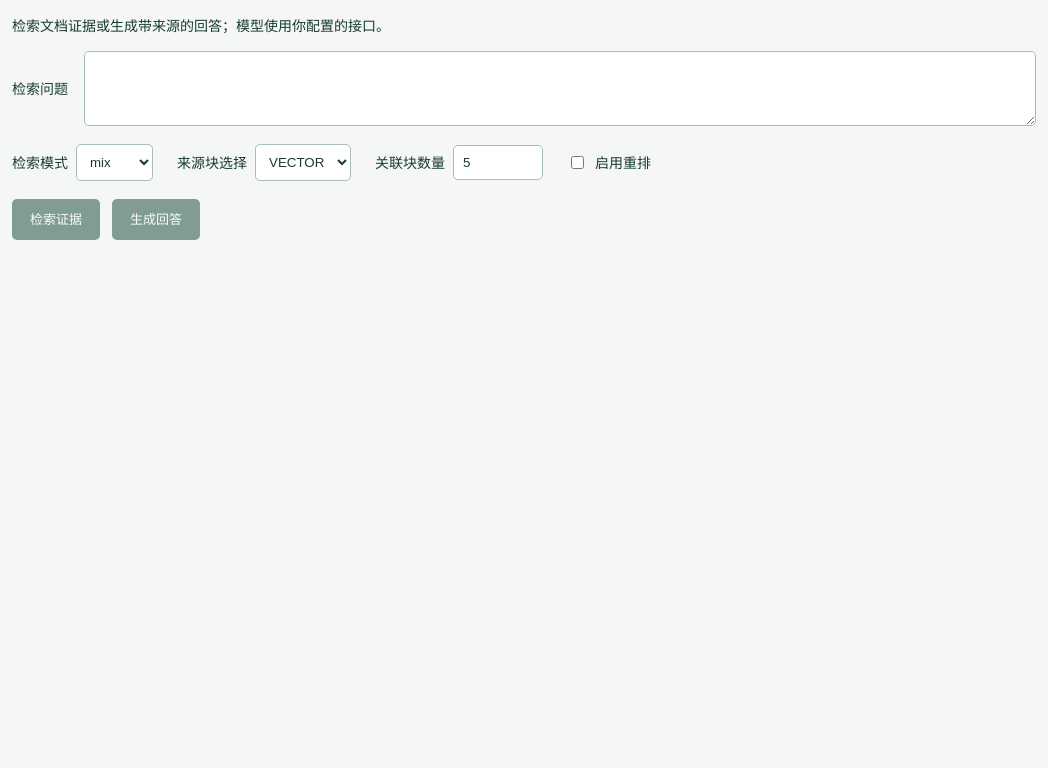
Scenario: streams Markdown, retains partial answers on errors and submits actual mode/rerank options
The image size is (1048, 768).
Type "协作" into the text box labelled "检索问题". click: (560, 88)
box: [84, 51, 1036, 126]
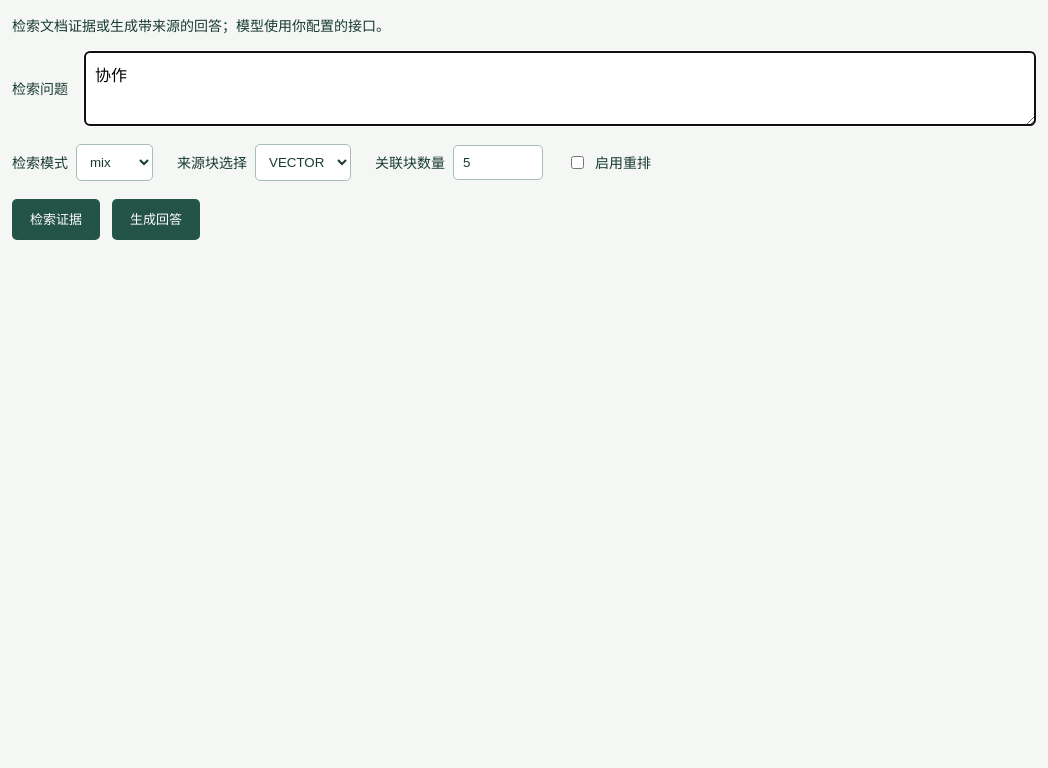
Select "global" in the dropdown labelled "检索模式". click: (114, 162)
box: [76, 144, 153, 181]
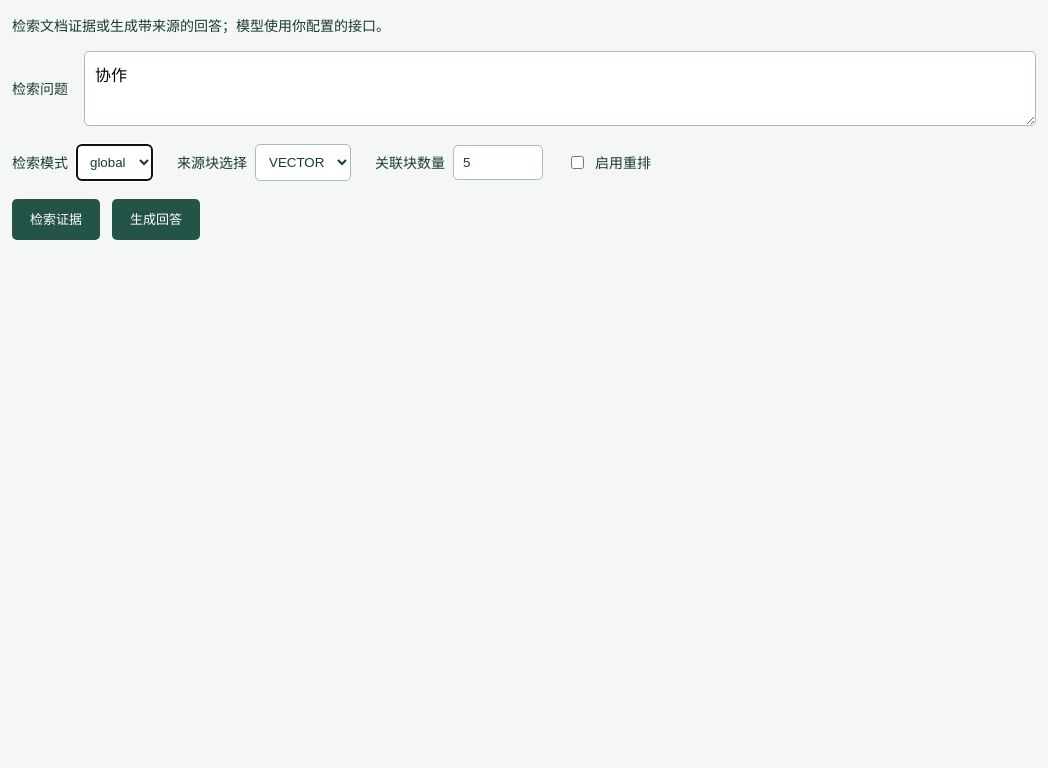
Click the checkbox labelled "启用重排". click: (578, 162)
box: [571, 156, 584, 169]
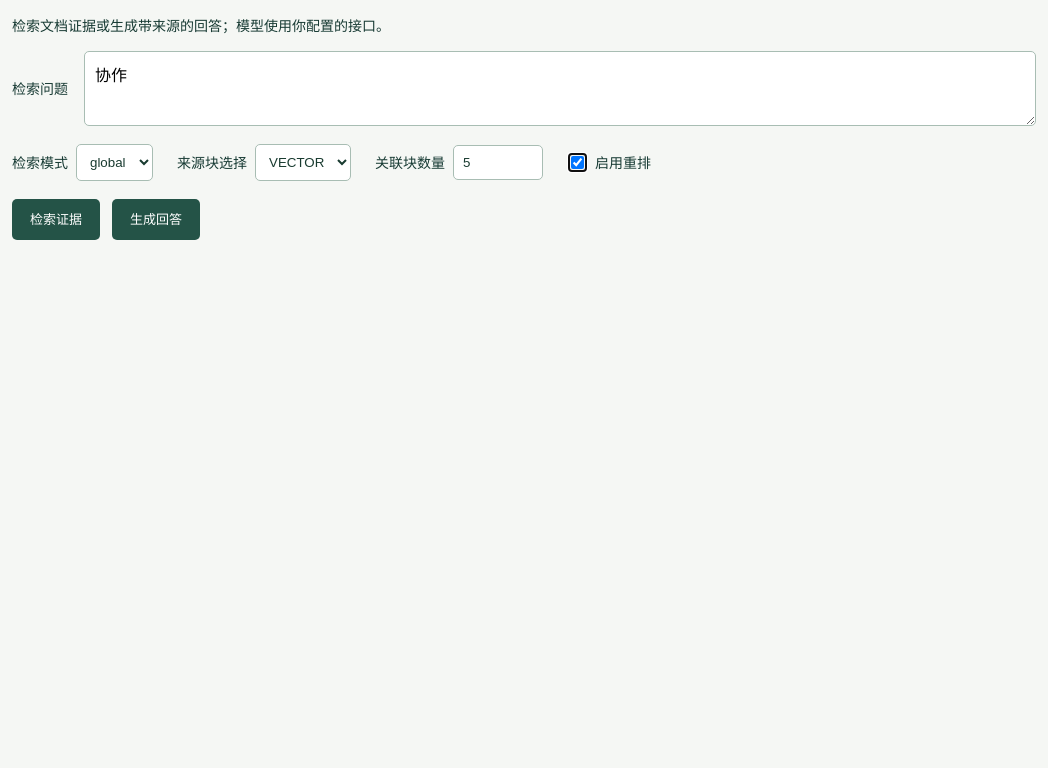
Click the button "生成回答". click: (156, 220)
box: [112, 199, 200, 240]
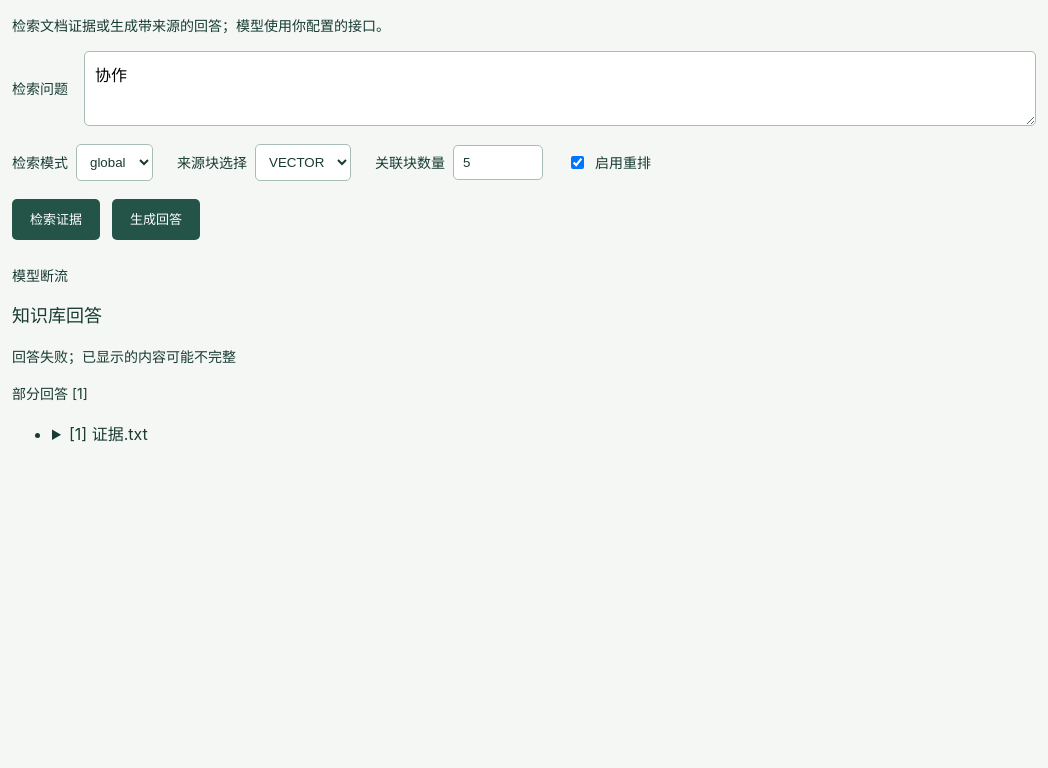
expect the text "回答失败；已显示的内容可能不完整" is shown: met, box [12, 348, 236, 365]
expect the message "模型断流" is shown: met, box [12, 267, 68, 284]
Click the heading "[1] 证据.txt". click: (108, 434)
box: [69, 424, 148, 444]
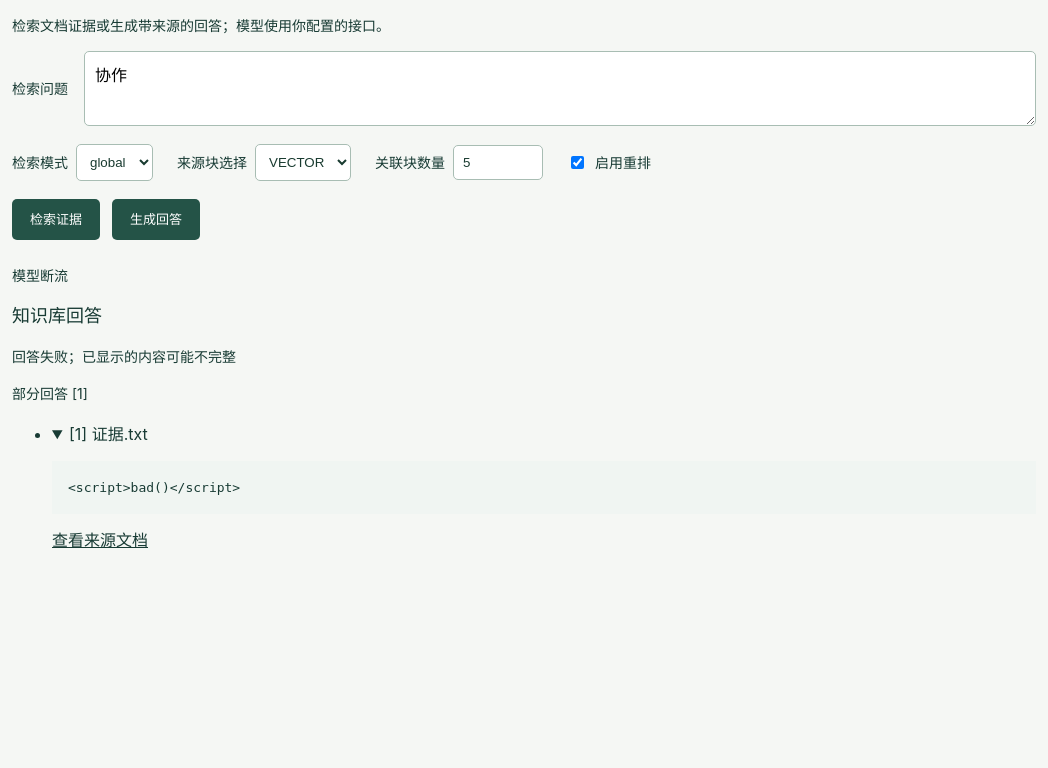
expect the text "<script>bad()</script>" is shown: met, box [52, 461, 1036, 514]
